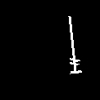treble_crochet: (69, 16, 81, 72)
